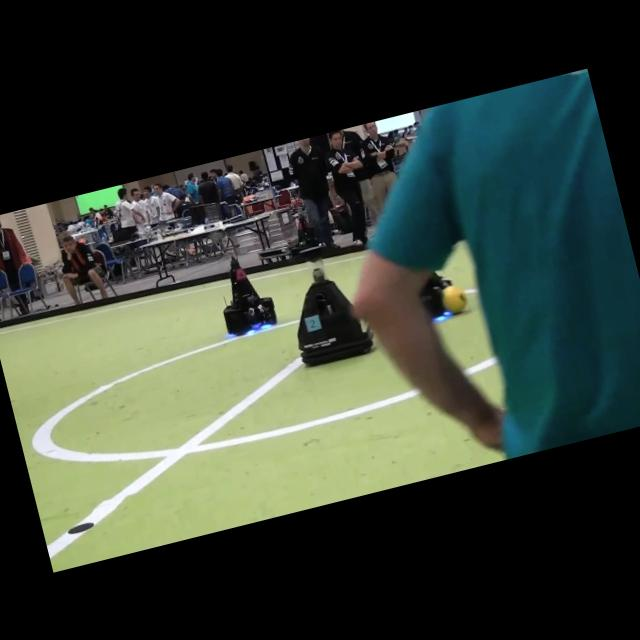ball: (442, 285, 467, 314)
robot: (298, 245, 372, 366), (223, 256, 277, 335), (420, 272, 451, 317)
